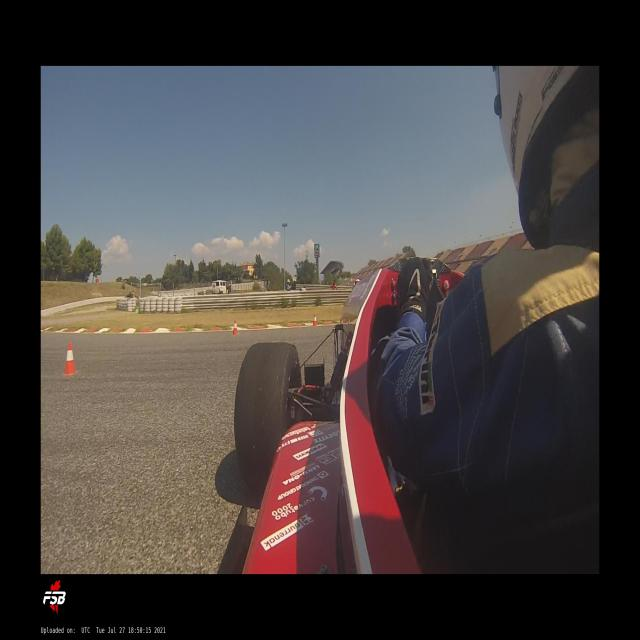orange_cone: (64, 342, 78, 376), (232, 319, 239, 335), (313, 313, 318, 327)
